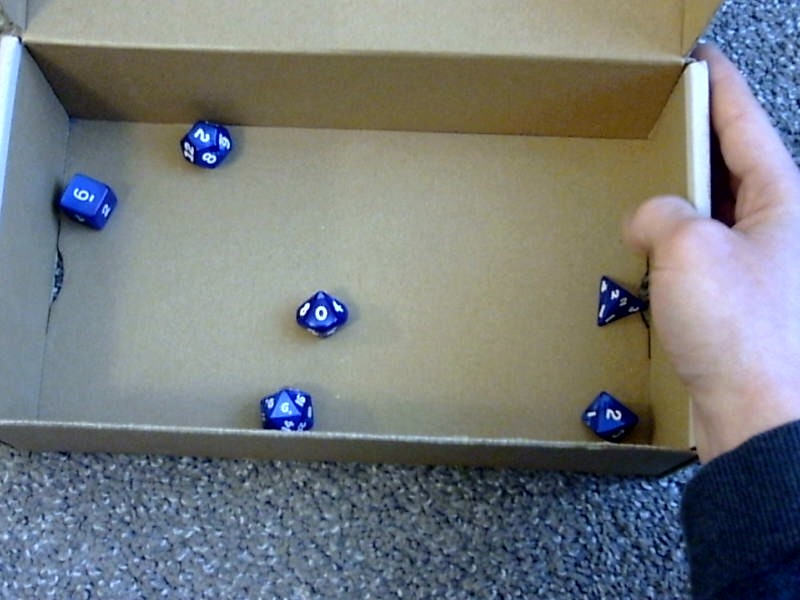d10 10: (290, 284, 349, 340)
d12 2: (178, 113, 232, 169)
d20 6: (253, 383, 315, 435)
d4 2: (594, 269, 642, 329)
d6 6: (52, 166, 119, 233)
d8 2: (578, 386, 638, 442)
